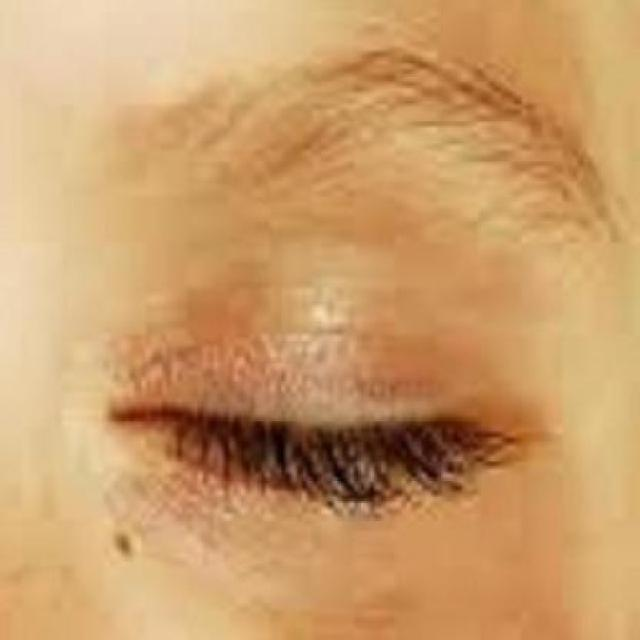drowsy: (96, 341, 489, 568)
